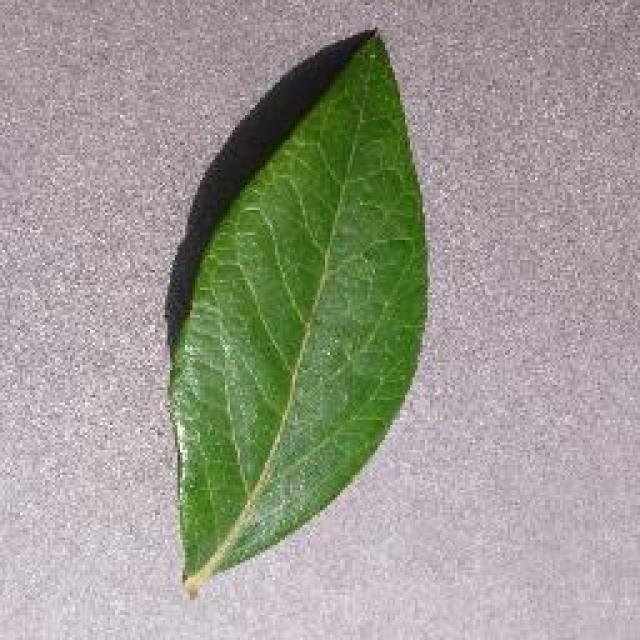Blu_healthy: (190, 122, 432, 540)
